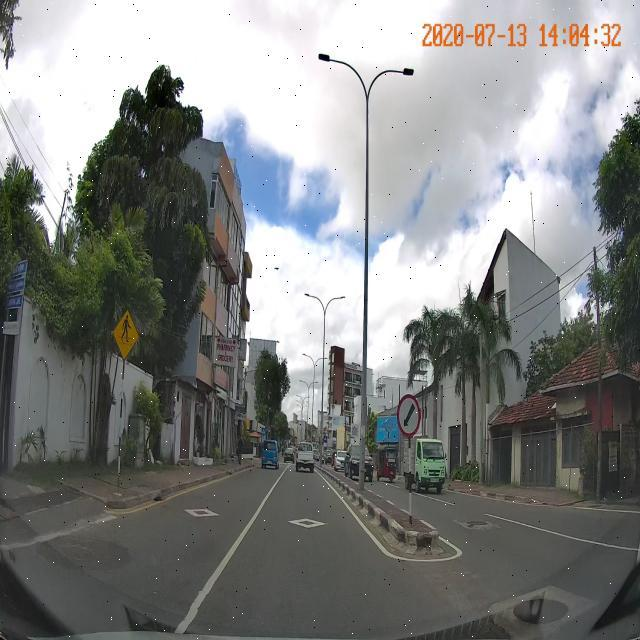diamond: (221, 503, 387, 544)
